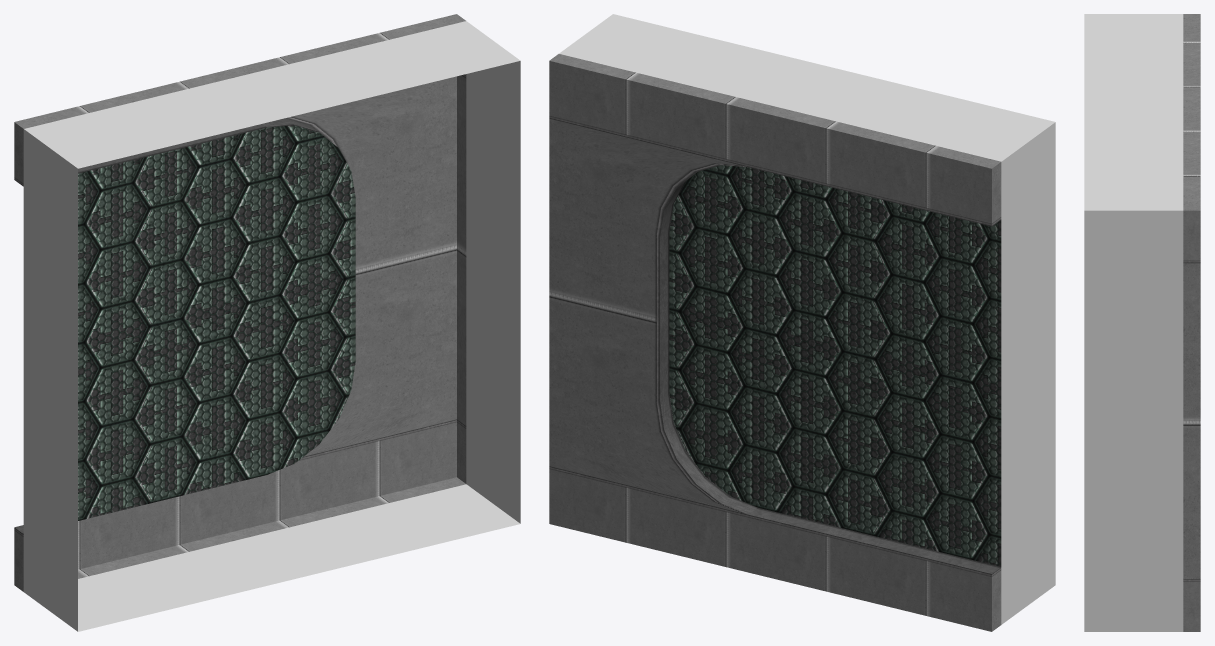
File: OC_road_deadend.fbx
3 renders of one model, left to right at view 1: azimuth 30°, elevation 25°; view 2: azimuth 150°, elevation 25°; view 3: azimuth 270°, elevation 25°, orthographic. The views are drawn at different scales.
Visible parts, largest first — view 1: OC_road_deadend; view 2: OC_road_deadend; view 3: OC_road_deadend.
Part boxes in pixels (x1,y1,x2,y2): OC_road_deadend: (14, 14, 520, 631); OC_road_deadend: (549, 14, 1055, 631); OC_road_deadend: (1084, 14, 1200, 631).
Bounding box in the file's own units: 4 × 4 × 1.
